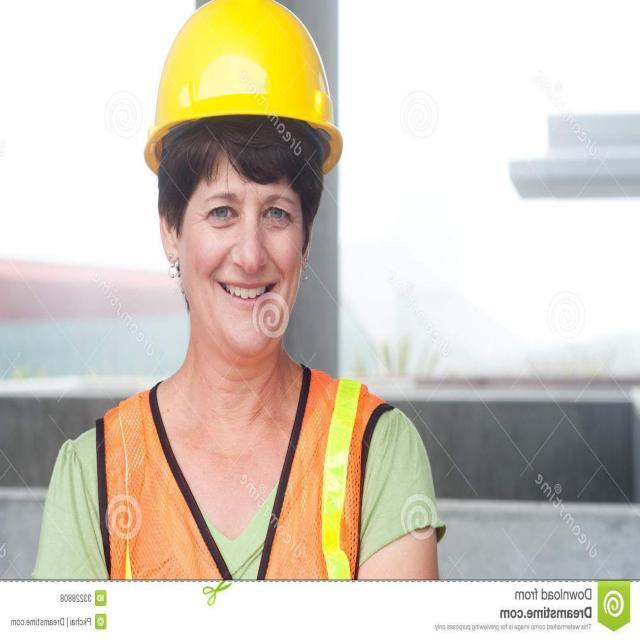reflective_jacket: (92, 362, 388, 579)
safety_helmet: (141, 0, 349, 175)
